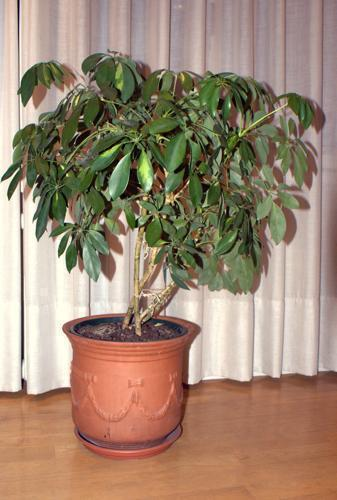Matera: (11, 39, 324, 463)
